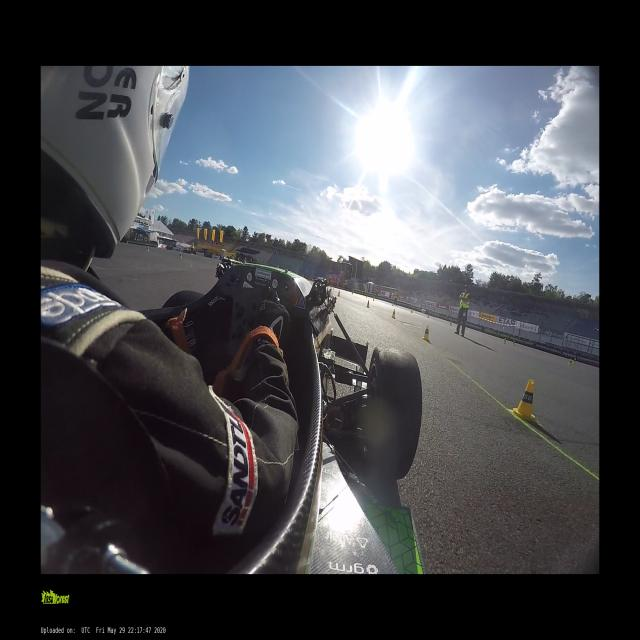yellow_cone: (511, 379, 539, 422), (422, 324, 430, 342), (391, 310, 396, 319), (366, 300, 370, 308), (568, 359, 573, 365), (178, 253, 182, 258), (503, 338, 506, 344), (337, 290, 340, 296), (511, 341, 515, 345), (208, 259, 211, 263), (450, 322, 452, 326), (427, 314, 429, 318), (411, 309, 412, 314), (373, 298, 374, 302)
